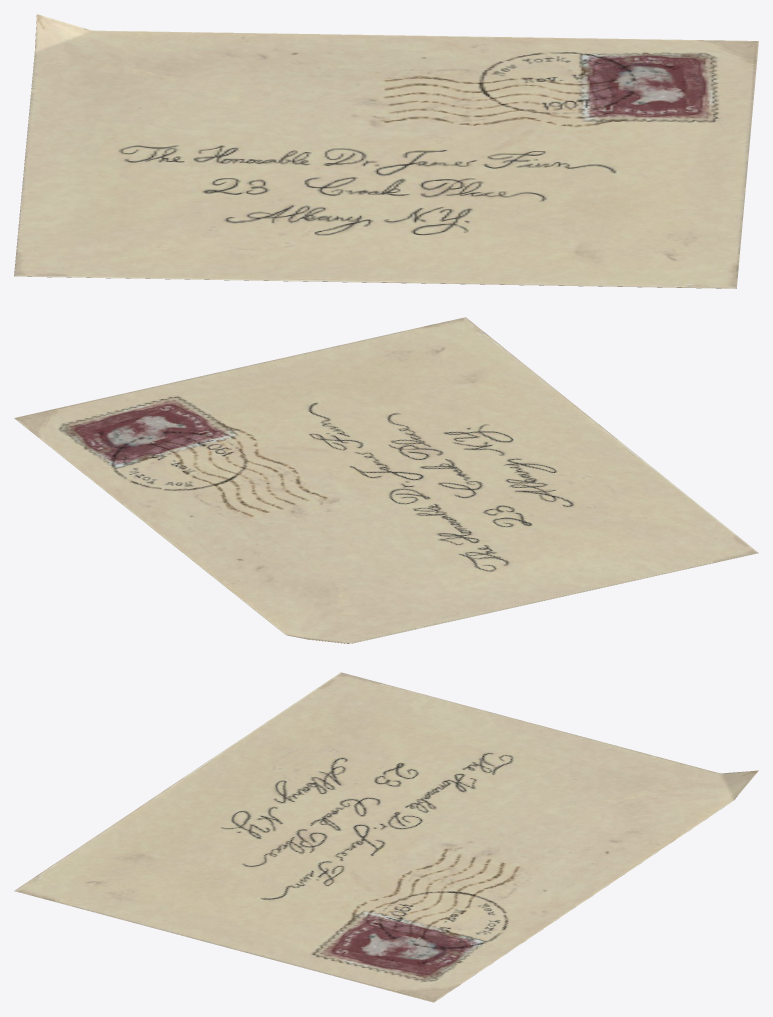
File: Envelope A.fbx
3 views of the same model, one above another, from view 1: azimuth 30°, elevation 25°; view 2: azimuth 150°, elevation 25°; view 3: azimuth 270°, elevation 25° (orthographic). The views are drawn at different scales.
Parts seen in each view (by area): view 1: Envelope A; view 2: Envelope A; view 3: Envelope A.
Boxes of the visible parts, bbox=[...] form: Envelope A: bbox=[14, 14, 758, 288]; Envelope A: bbox=[14, 317, 758, 643]; Envelope A: bbox=[14, 672, 758, 1002].
Size of the model in its own units: 18.78 by 0.4167 by 17.9.
Materials: 1 (1 with a texture image).
